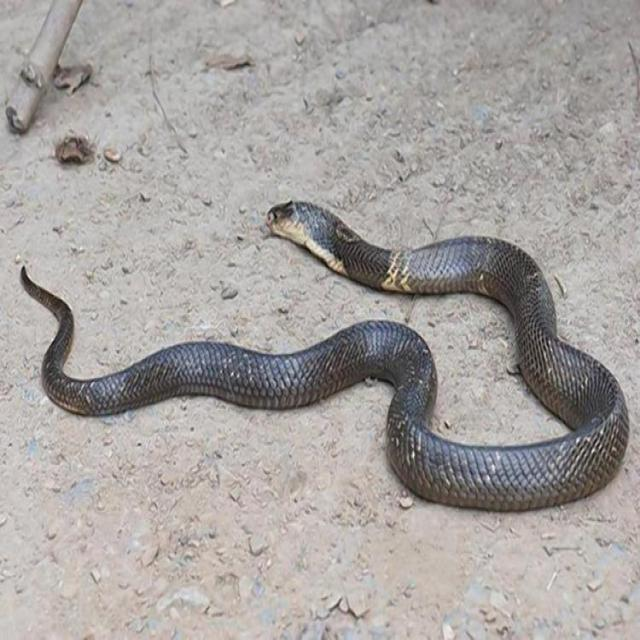Snake: (18, 197, 630, 512)
